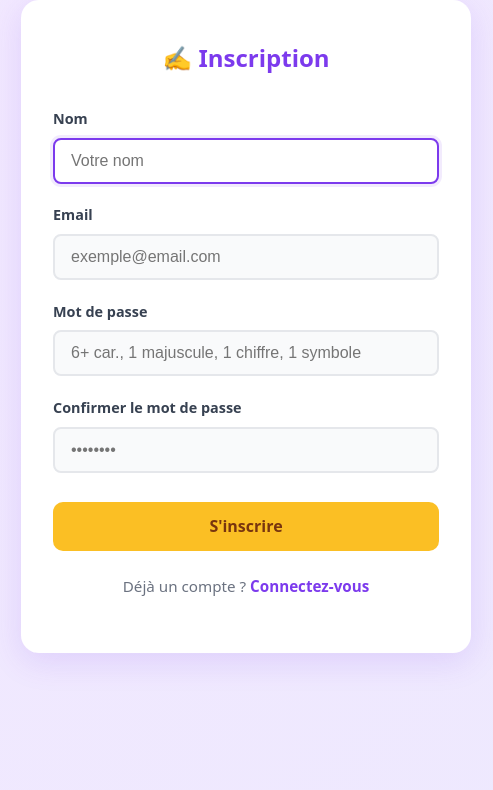
Test: Inscription — Validation du champ Nom › doit afficher une erreur si le nom est vide
The width and height of the screenshot is (493, 790).
Click the button "S'inscrire" at (246, 526), box left=53, top=502, right=439, bottom=551
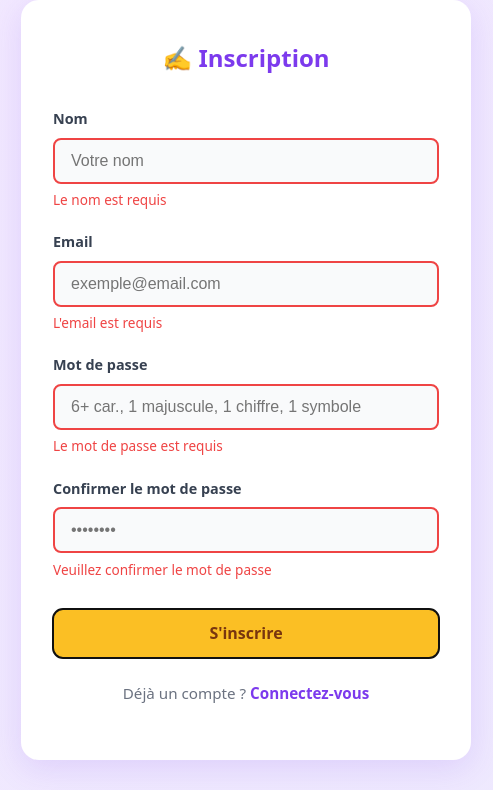
Expected: the text "Le nom est requis" is shown, left=53, top=190, right=167, bottom=209
